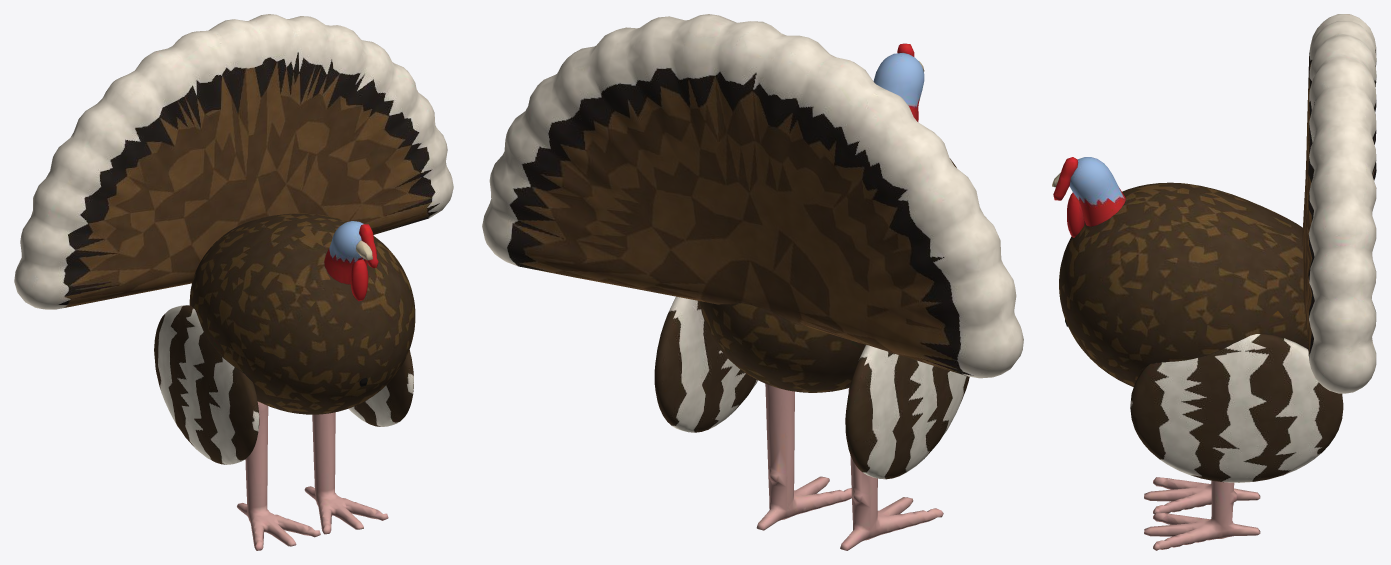
Rendered from animal_gobbler.glb.
The picture shows the model from 3 angles, left to right: view 1: azimuth 30°, elevation 25°; view 2: azimuth 150°, elevation 25°; view 3: azimuth 270°, elevation 25°; orthographic projection. The views are drawn at different scales.
Visible parts, largest first — view 1: animal_gobbler, leg1, leg0, head; view 2: animal_gobbler, leg1, leg0, head; view 3: animal_gobbler, head, leg1, leg0.
Boxes of the visible parts, bbox=[...] form: animal_gobbler: bbox=[14, 14, 453, 464]; leg1: bbox=[304, 412, 388, 534]; leg0: bbox=[237, 401, 320, 550]; head: bbox=[324, 221, 378, 301]; animal_gobbler: bbox=[482, 14, 1023, 479]; leg1: bbox=[756, 384, 851, 530]; leg0: bbox=[840, 388, 943, 550]; head: bbox=[873, 43, 924, 121]; animal_gobbler: bbox=[1059, 14, 1376, 482]; head: bbox=[1052, 157, 1125, 237]; leg1: bbox=[1144, 481, 1260, 550]; leg0: bbox=[1144, 477, 1260, 514].
Size of the model in its own units: 0.446 by 0.446 by 0.2724.
Materials: 1 (1 with a texture image).
